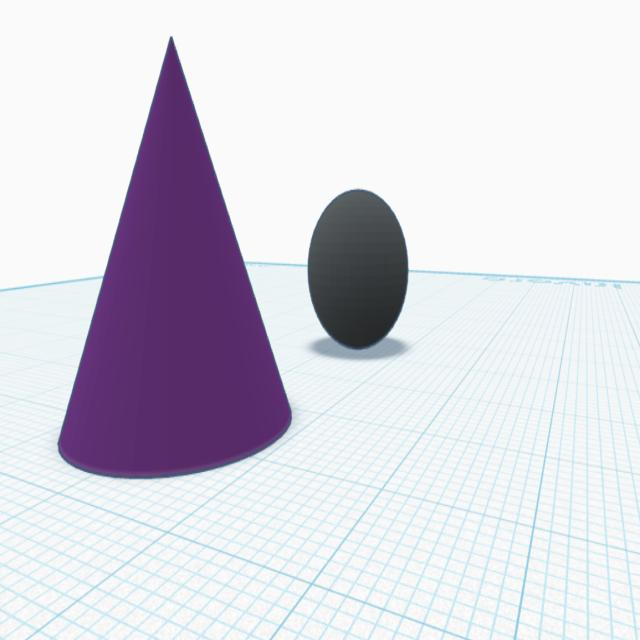cone: (48, 29, 297, 486)
sphere: (306, 183, 412, 354)
